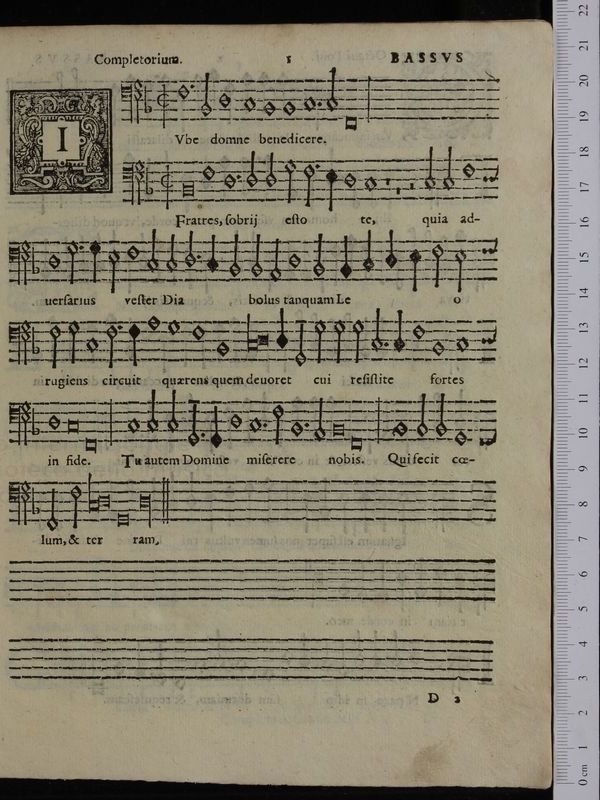custos_5: (472, 226, 506, 262)
f clef_5: (2, 229, 30, 288)
flat_9: (28, 243, 42, 281)
minim_10: (267, 232, 283, 286)
minim_4: (65, 234, 79, 286)
minim_5: (428, 237, 445, 291)
minim_6: (104, 241, 121, 297), (451, 241, 468, 297)
minim_7: (181, 224, 196, 273)
minim_8: (144, 224, 160, 277), (164, 227, 179, 277)
minim_9: (309, 227, 328, 283), (226, 227, 243, 282), (247, 227, 264, 282)
point: (72, 239, 86, 256), (191, 247, 204, 264)
semibreve_5: (123, 236, 142, 267)
semibreve_7: (285, 244, 304, 275), (46, 247, 62, 275)
semiminim_4: (86, 233, 103, 286)
semiminim_6: (407, 240, 424, 297)
semiminim_7: (381, 223, 399, 275)
semiminim_8: (359, 223, 376, 278), (204, 227, 220, 279)
semiminim_9: (336, 227, 355, 284)
